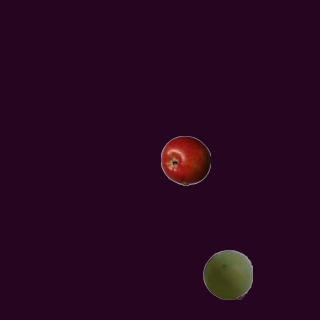Apple Braeburn: (160, 135, 210, 185)
Grape White 4: (202, 249, 252, 299)
